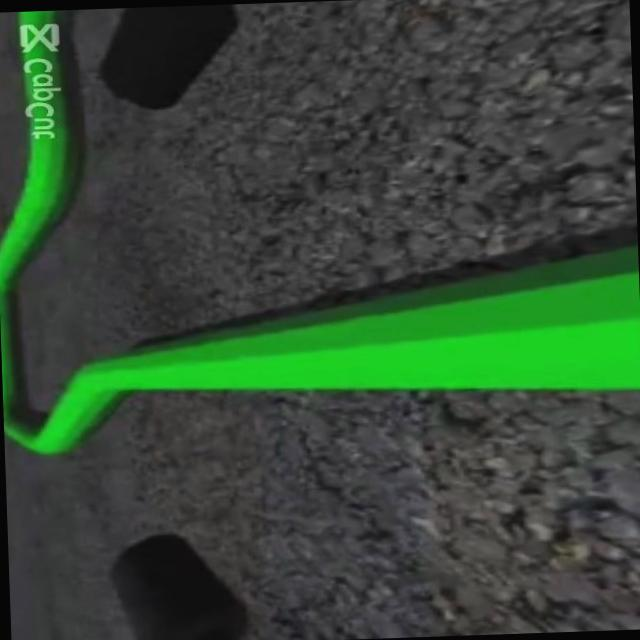gas: (114, 241, 640, 406), (28, 347, 122, 455)
